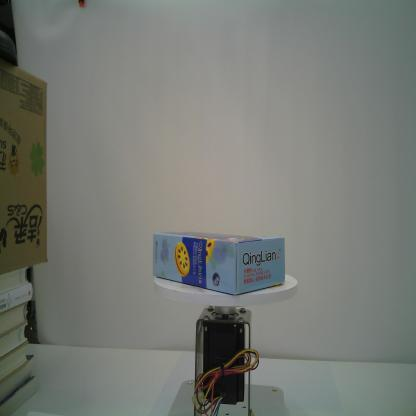Dessert: (152, 231, 286, 295)
